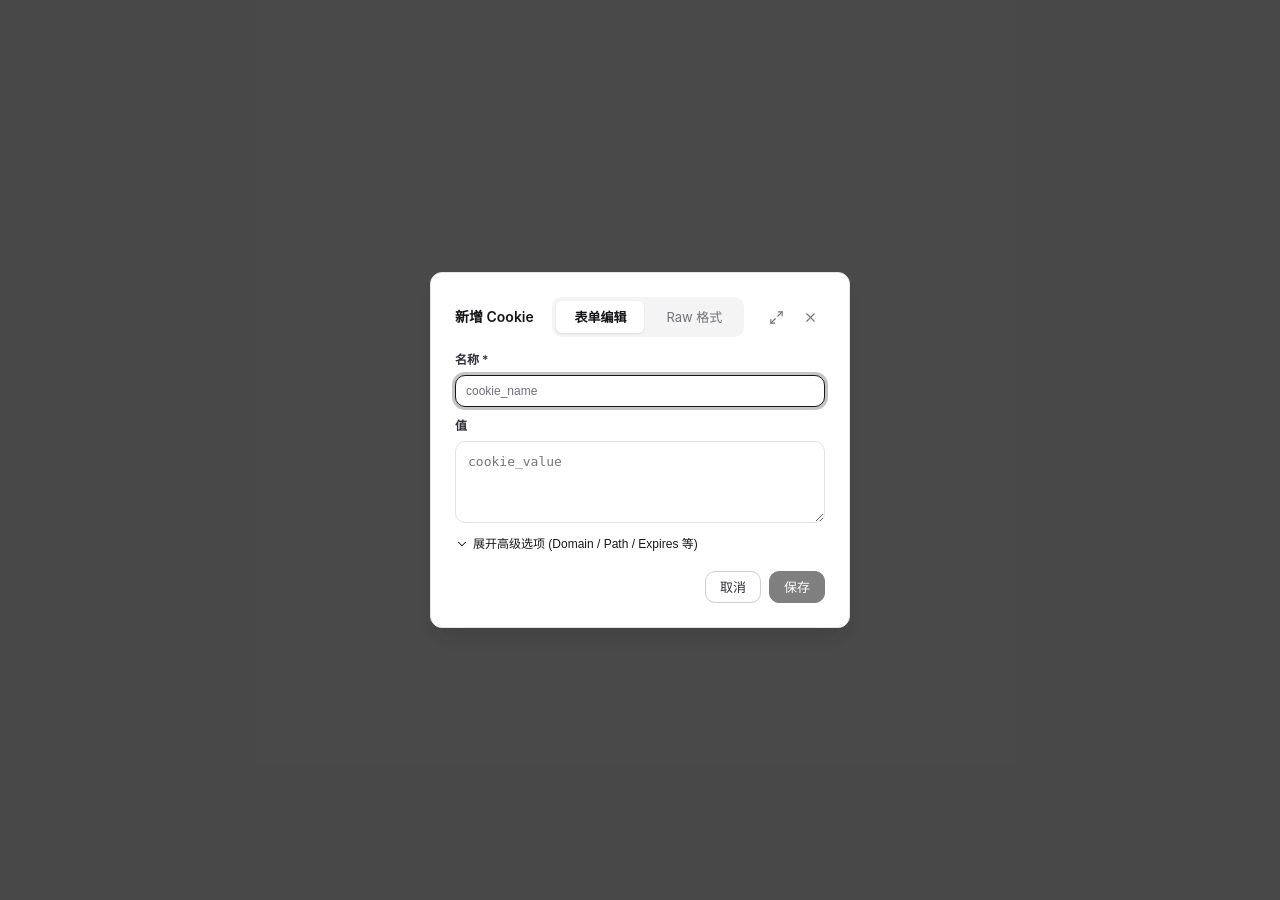
CookieEditModal 保存 › 「含子域」勾选与域名框前导点同步（勾上加点、取消去点）
Click the button "展开高级选项 (Domain / Path / Expires 等)".
click(576, 544)  # box x1=455 y1=535 x2=698 y2=553
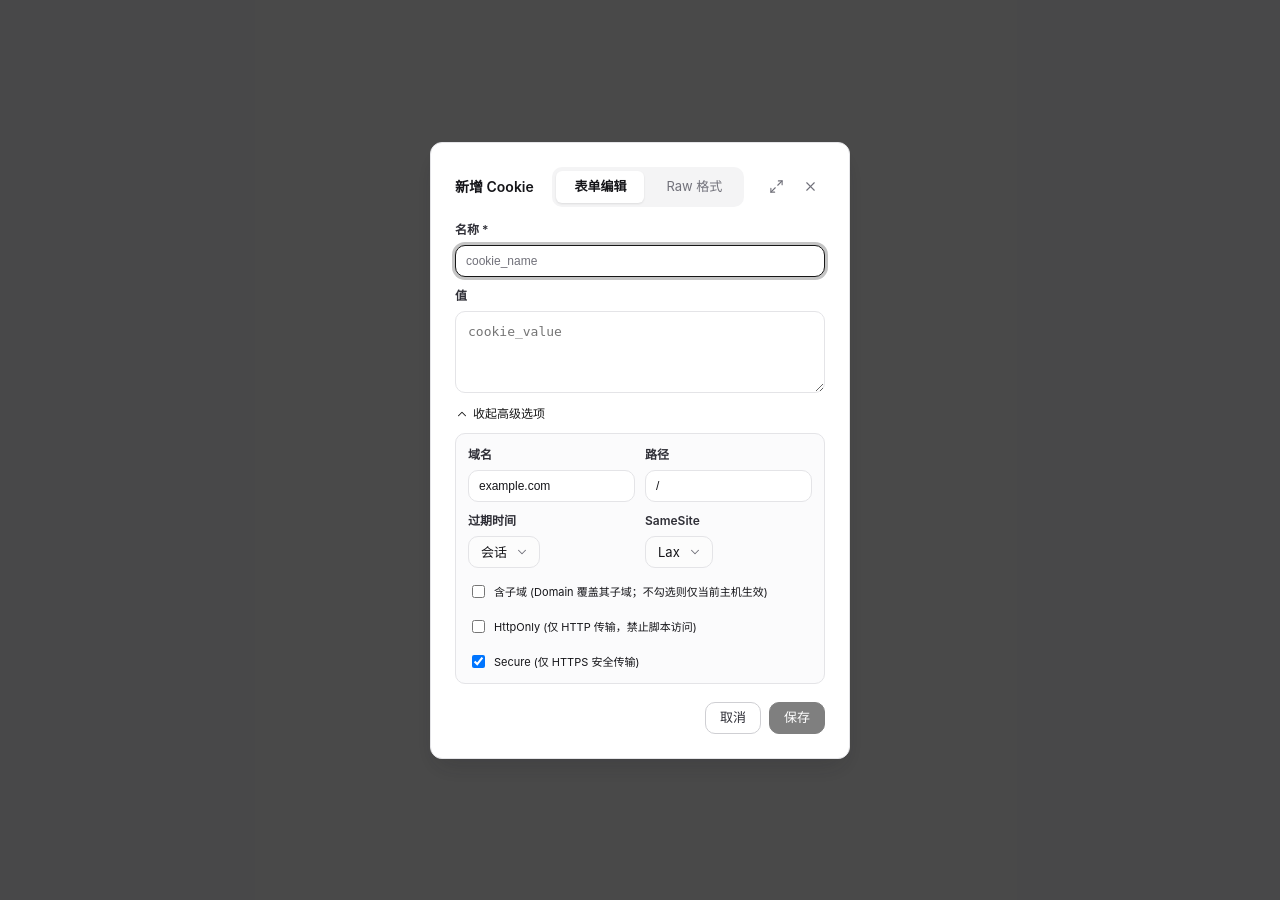
Now the field labelled "域名" holds "example.com", box x1=468 y1=470 x2=635 y2=502
Click the checkbox labelled "含子域 (Domain 覆盖其子域；不勾选则仅当前主机生效)".
click(478, 591)  # box x1=472 y1=584 x2=485 y2=598
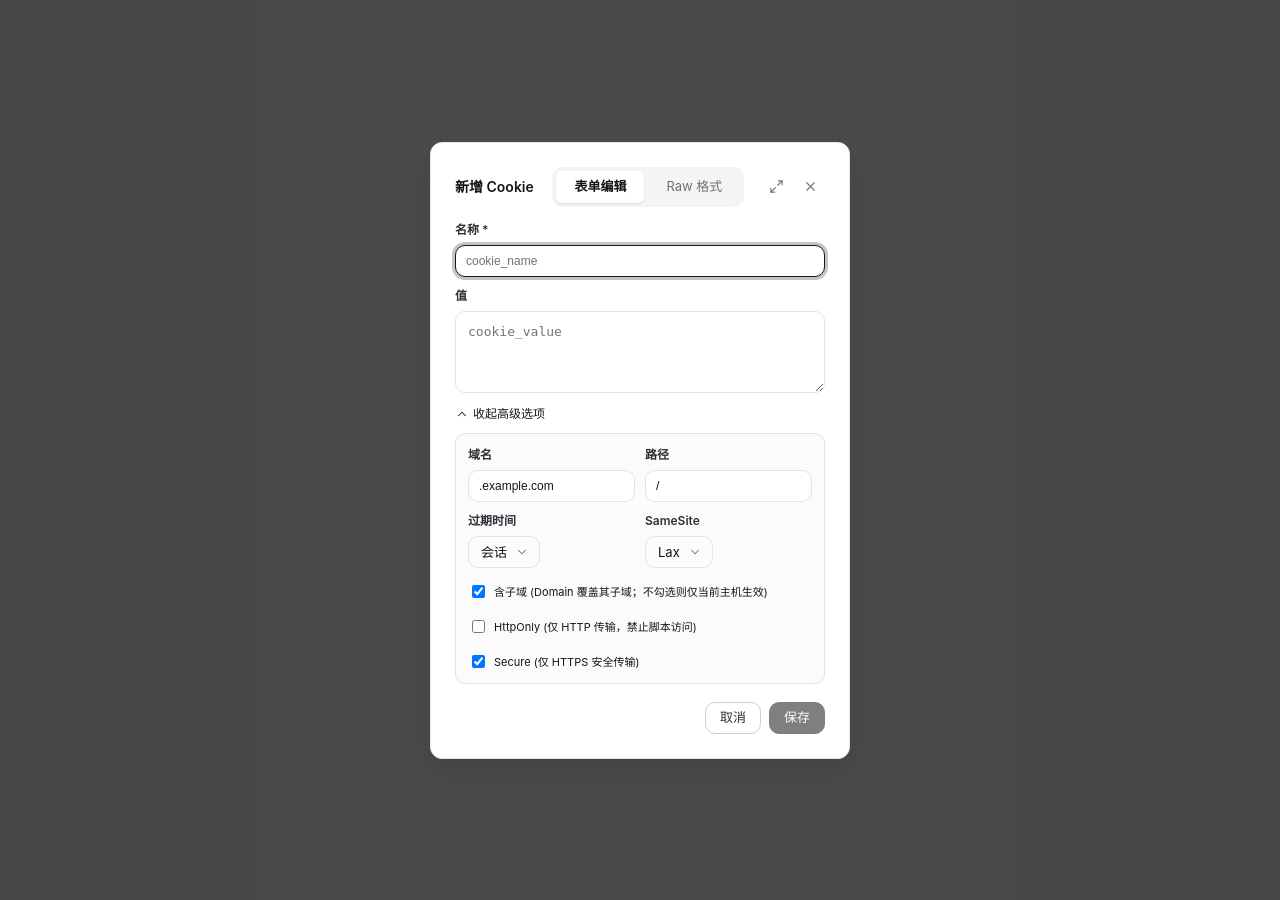
Now the field labelled "域名" holds ".example.com", box x1=468 y1=470 x2=635 y2=502
Click the checkbox labelled "含子域 (Domain 覆盖其子域；不勾选则仅当前主机生效)".
click(478, 591)  # box x1=472 y1=584 x2=485 y2=598
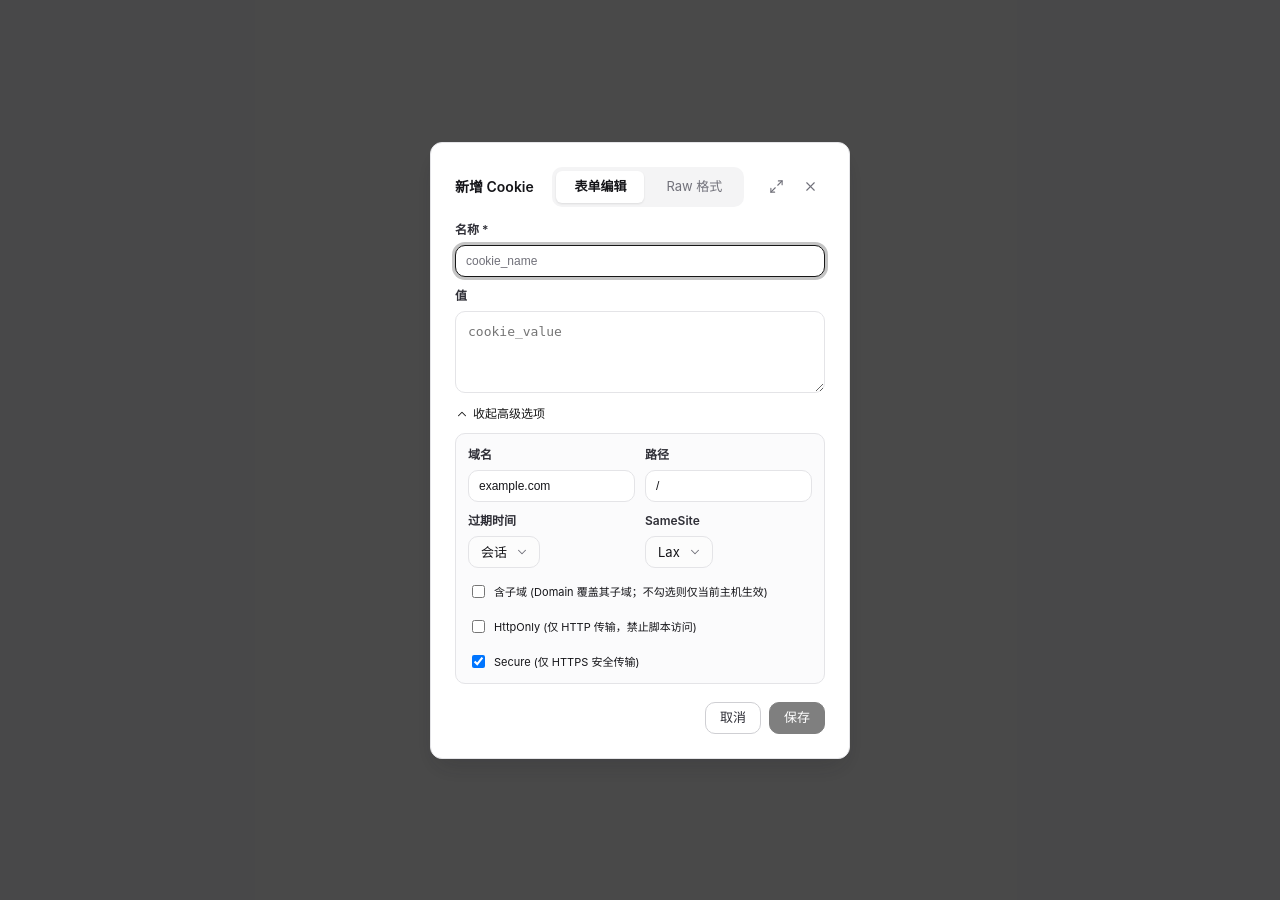
Now the field labelled "域名" holds "example.com", box x1=468 y1=470 x2=635 y2=502
